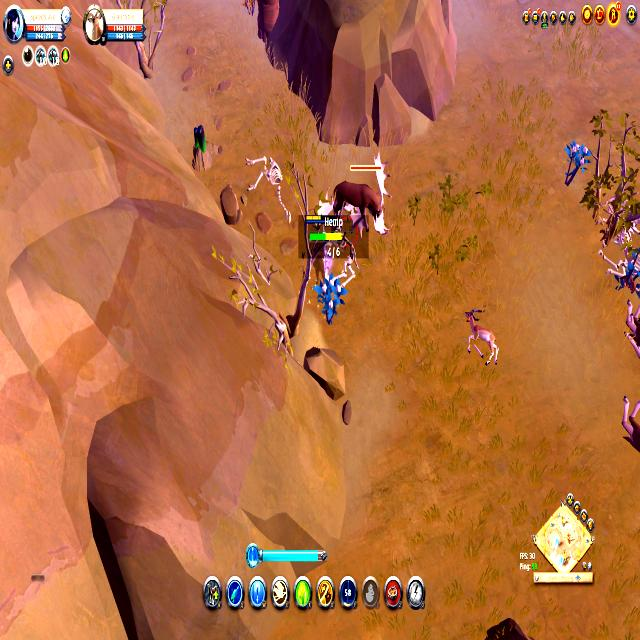hide: (560, 134, 594, 197), (317, 270, 345, 322)
mob: (463, 302, 500, 371), (618, 387, 640, 454), (624, 295, 640, 368)
ore: (332, 158, 392, 240)
player: (190, 120, 210, 170)
red: (304, 211, 340, 263)
